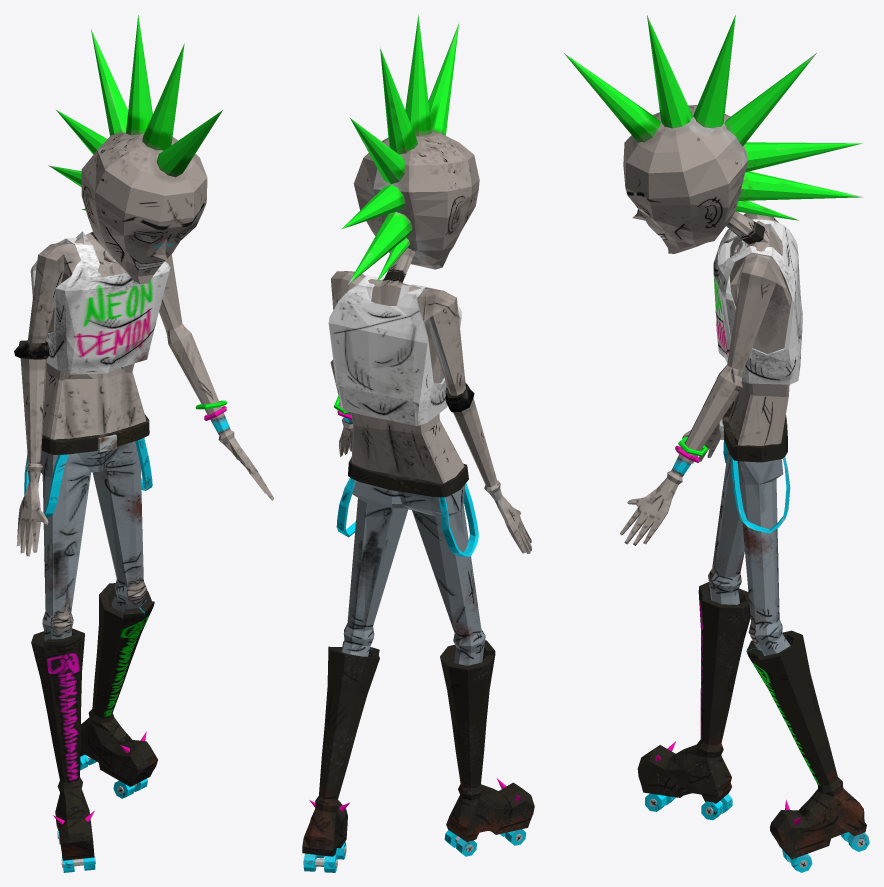
Rendered from punkAnimation_000153.obj.
3 renders of one model, left to right at view 1: azimuth 30°, elevation 25°; view 2: azimuth 150°, elevation 25°; view 3: azimuth 270°, elevation 25°, orthographic. The views are drawn at different scales.
Visible parts, largest first — view 1: Cube.004_Cube.003; view 2: Cube.004_Cube.003; view 3: Cube.004_Cube.003.
Part boxes in pixels (x1,y1,x2,y2): Cube.004_Cube.003: [14, 15, 273, 872]; Cube.004_Cube.003: [302, 14, 534, 872]; Cube.004_Cube.003: [564, 15, 869, 872].
Bounding box in the file's own units: 2.12 × 7.44 × 2.45.
